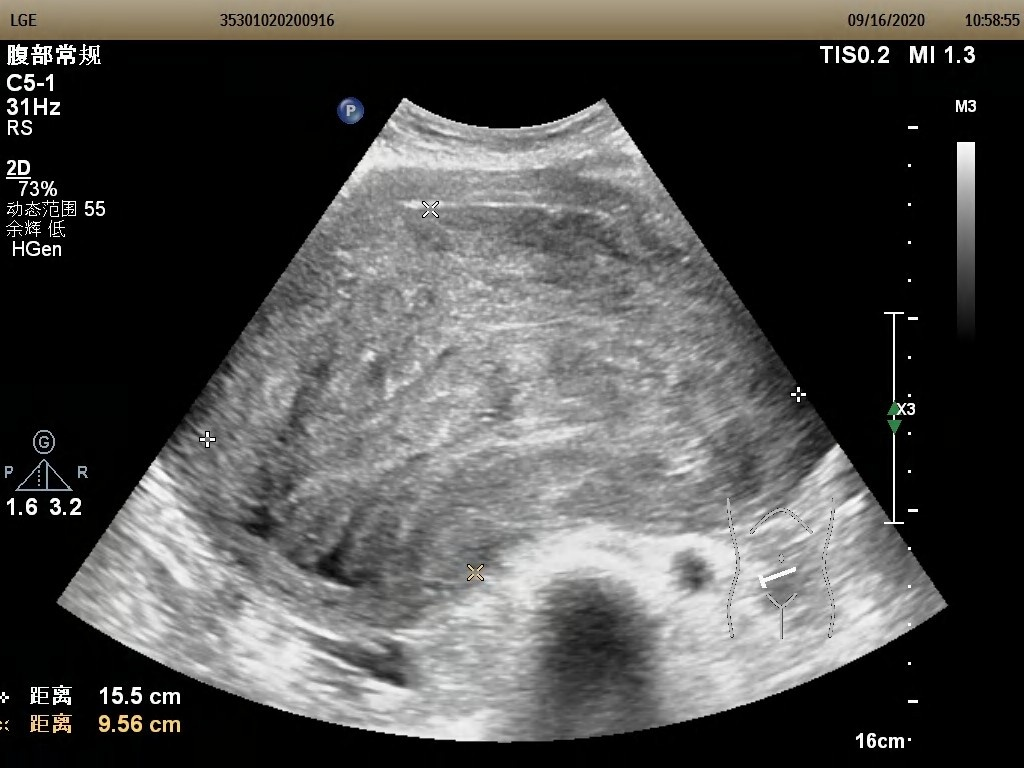肌瘤: (206, 207, 801, 573)
